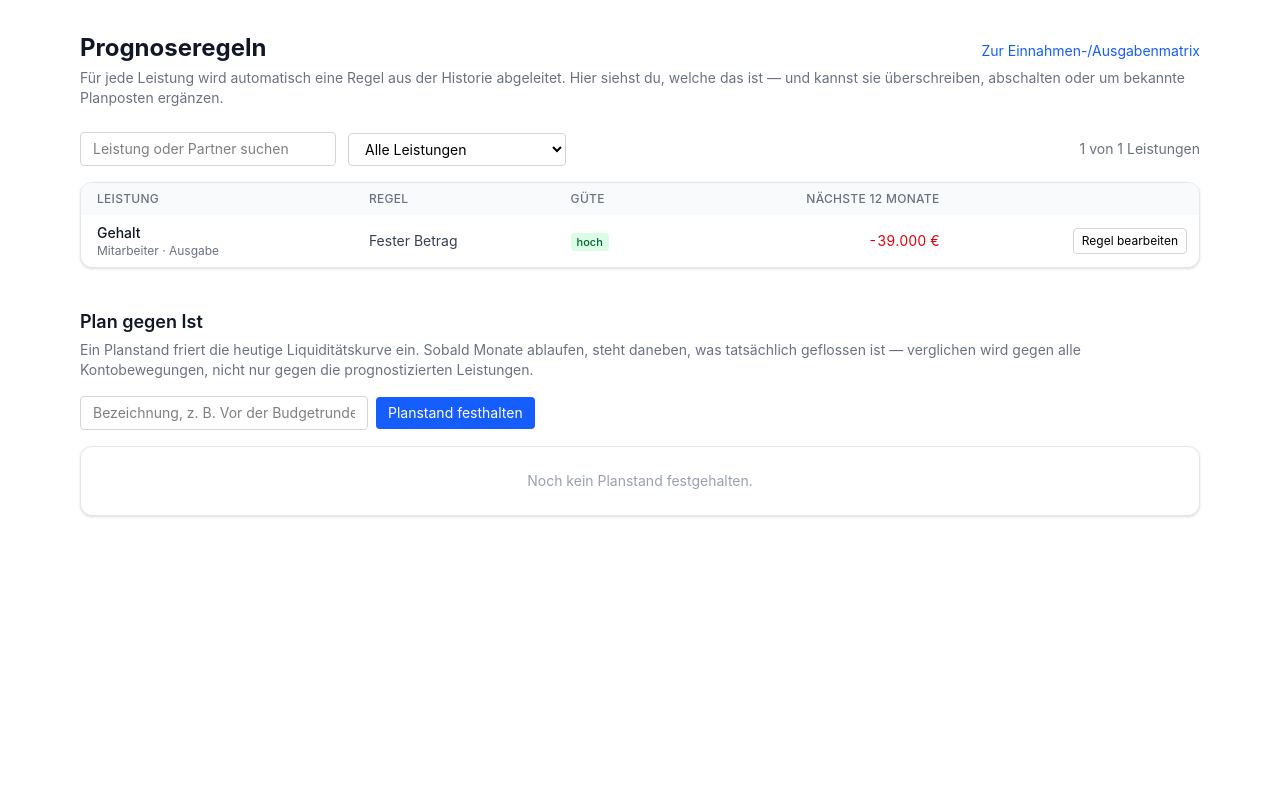
Test: ForecastPage – Rückvergleich im Editor › sagt es, wenn die Historie fuer einen Rueckvergleich nicht reicht
The image size is (1280, 797).
Click the button "Regel bearbeiten". click: (1130, 241)
box: [1073,228,1187,254]
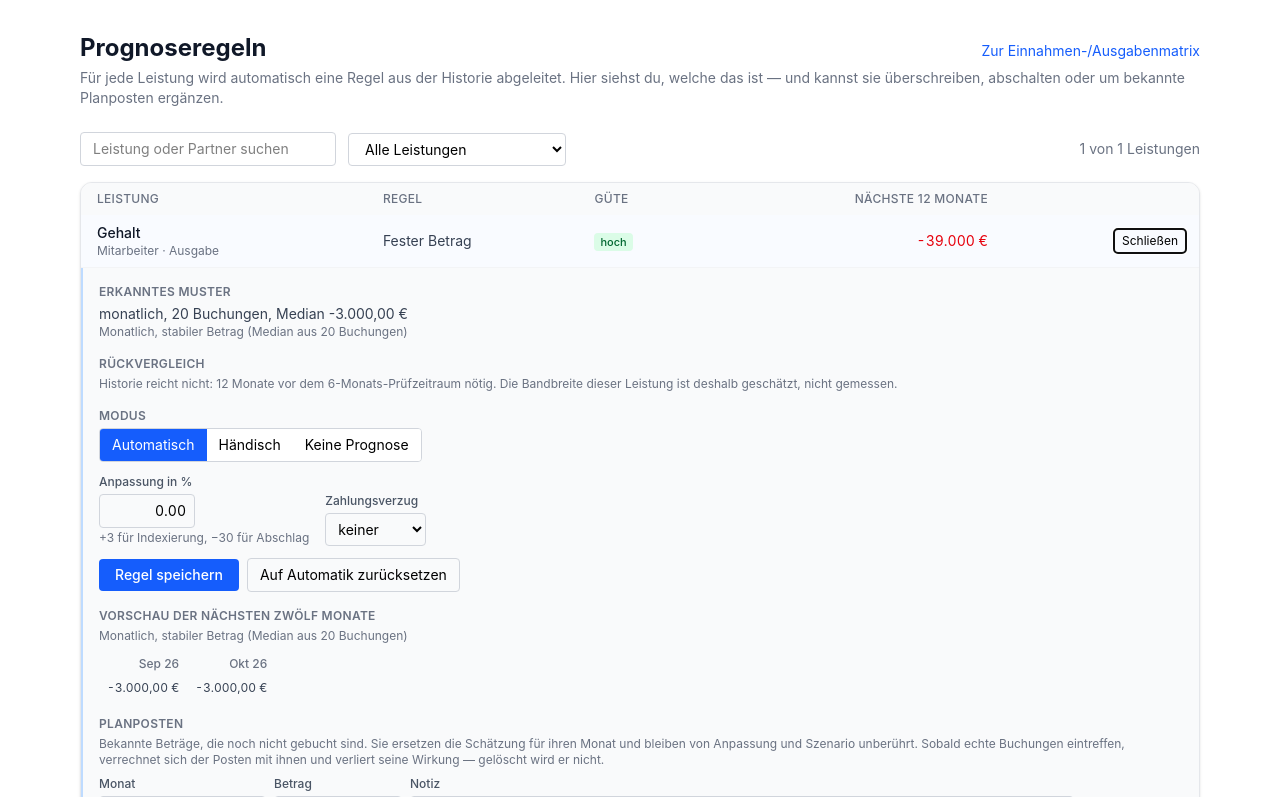
Expected: the text "Bandbreite dieser Leistung ist deshalb geschätzt" is shown, [493,376,898,391]
